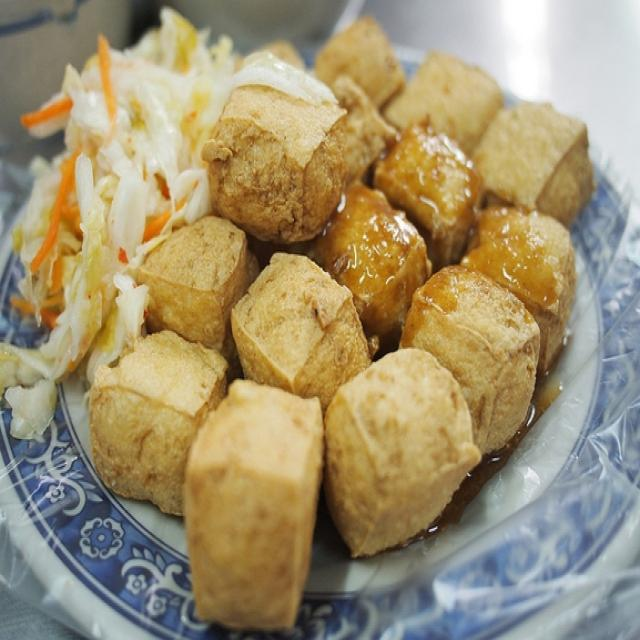豆腐料理: (3, 7, 618, 634)
